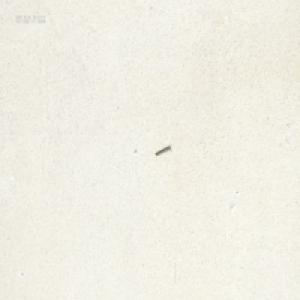Bolt: (154, 142, 170, 154)
